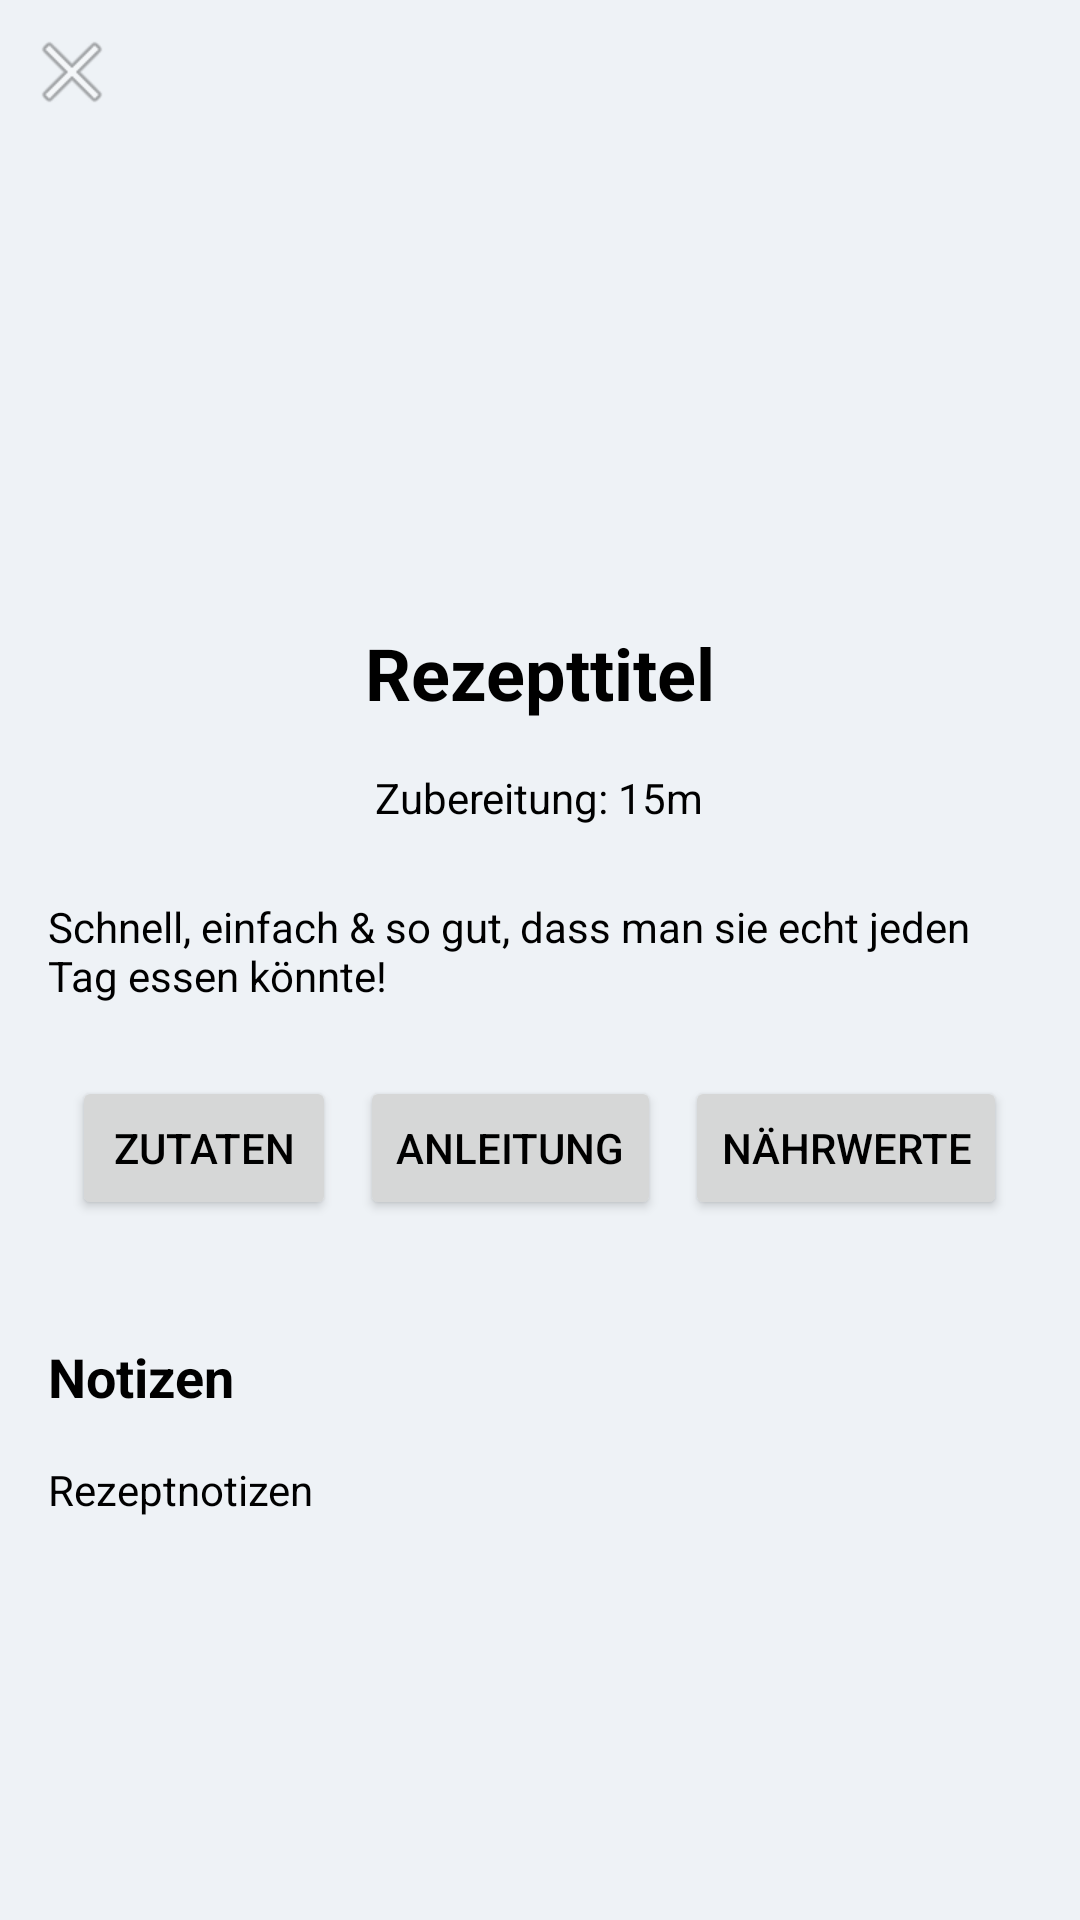

Point at icon controls on the screen. Image size 1080x1920, points as (x=x, y=y).
Schließen: (x=72, y=72)
